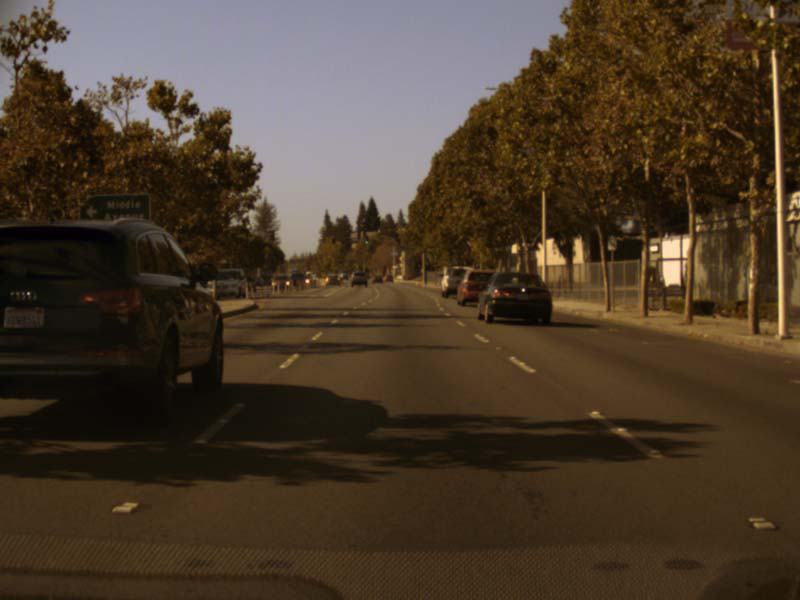Green: (363, 236, 368, 245)
Red: (331, 235, 335, 242)
